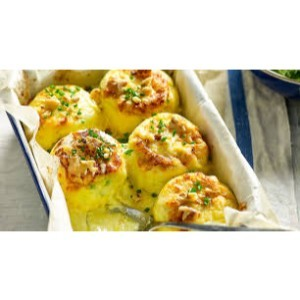cheese_brain food: (133, 120, 196, 167), (168, 177, 220, 222), (64, 135, 111, 184)
